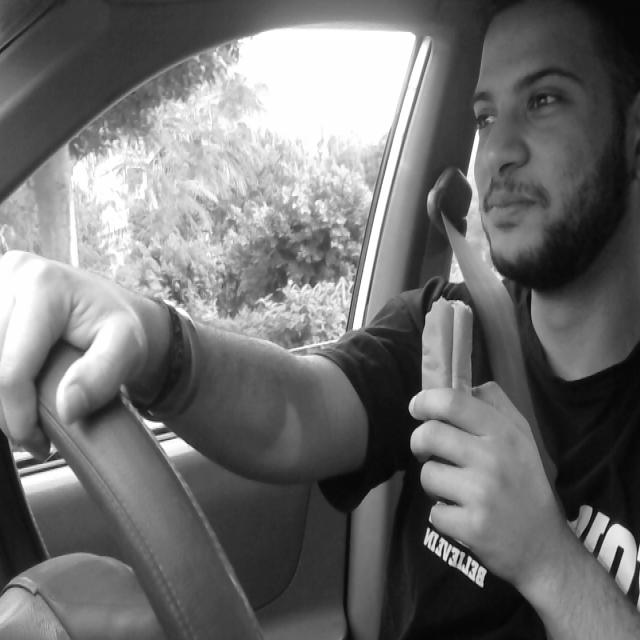eating: (416, 291, 476, 490)
